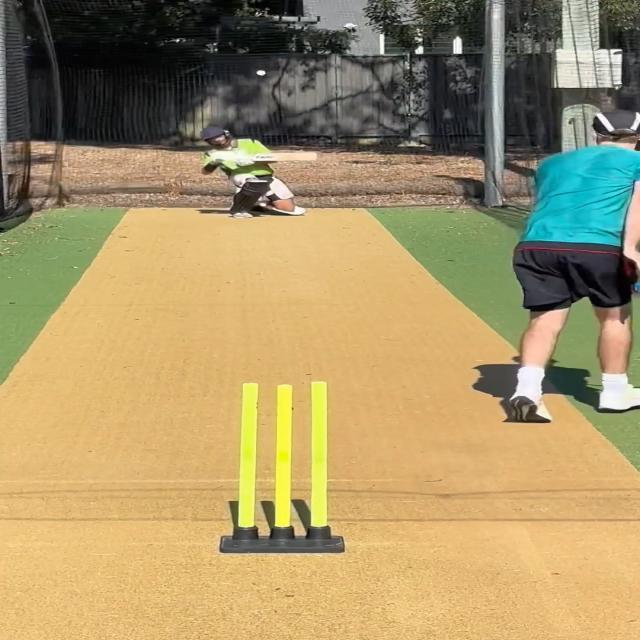ball: (254, 69, 268, 77)
stump: (219, 381, 348, 554)
